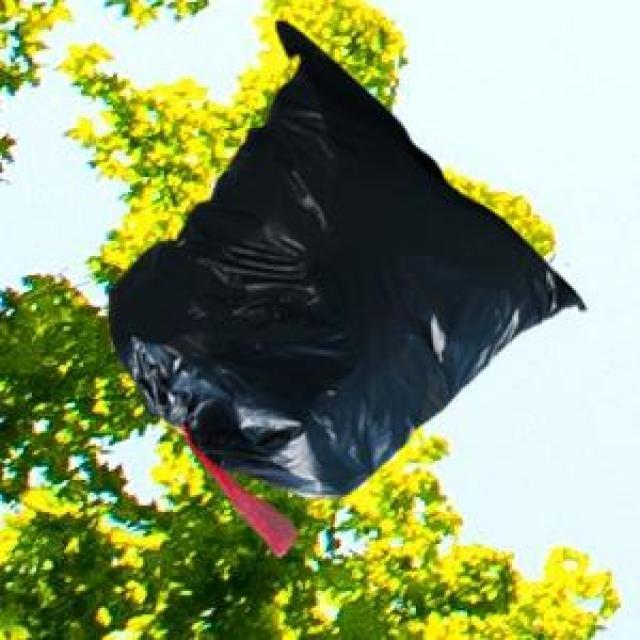miscellaneous trash: (105, 17, 580, 553)
